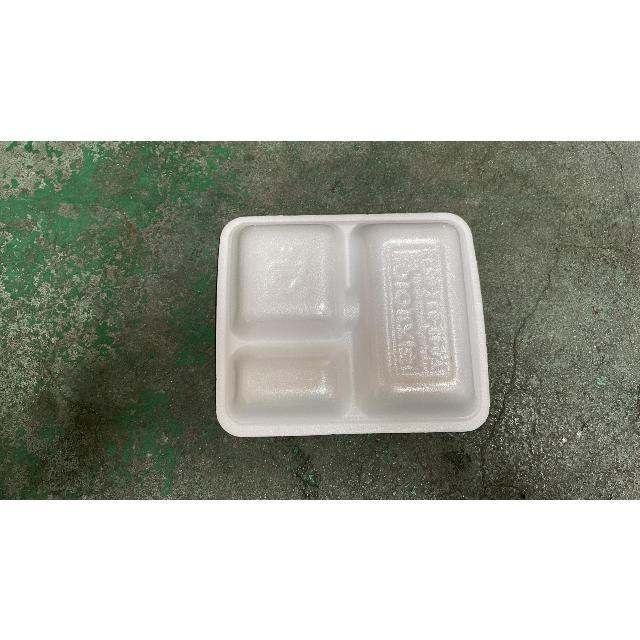Plastico descartable: (215, 213, 491, 441)
